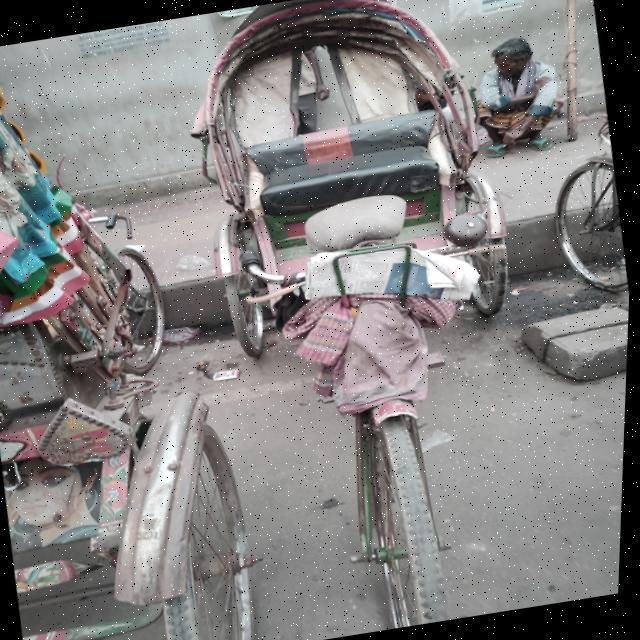rikshaw: (165, 0, 574, 640)
